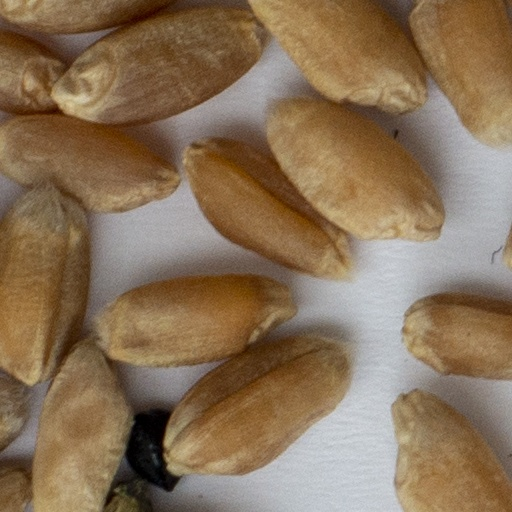Fallopia-Convolvulus-poly: (126, 411, 177, 495)
